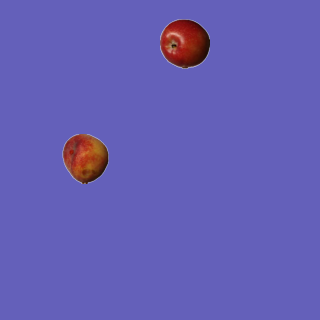Apple Braeburn: (159, 18, 209, 68)
Peach: (60, 133, 110, 183)
